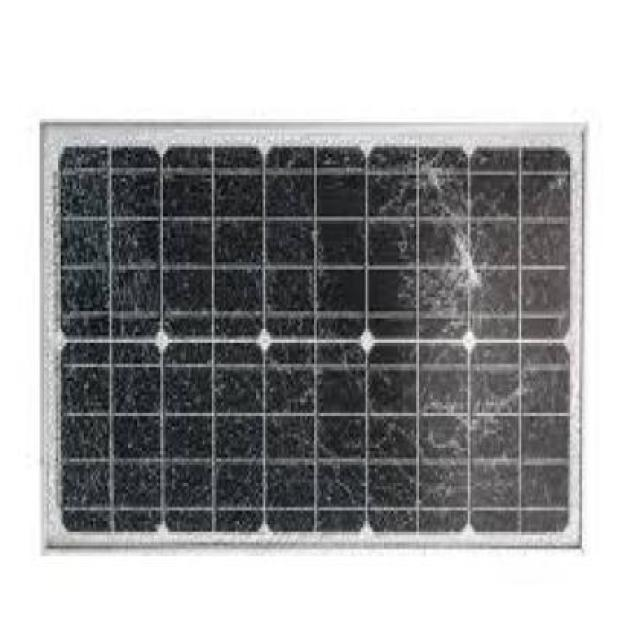cracked: (32, 119, 587, 548)
